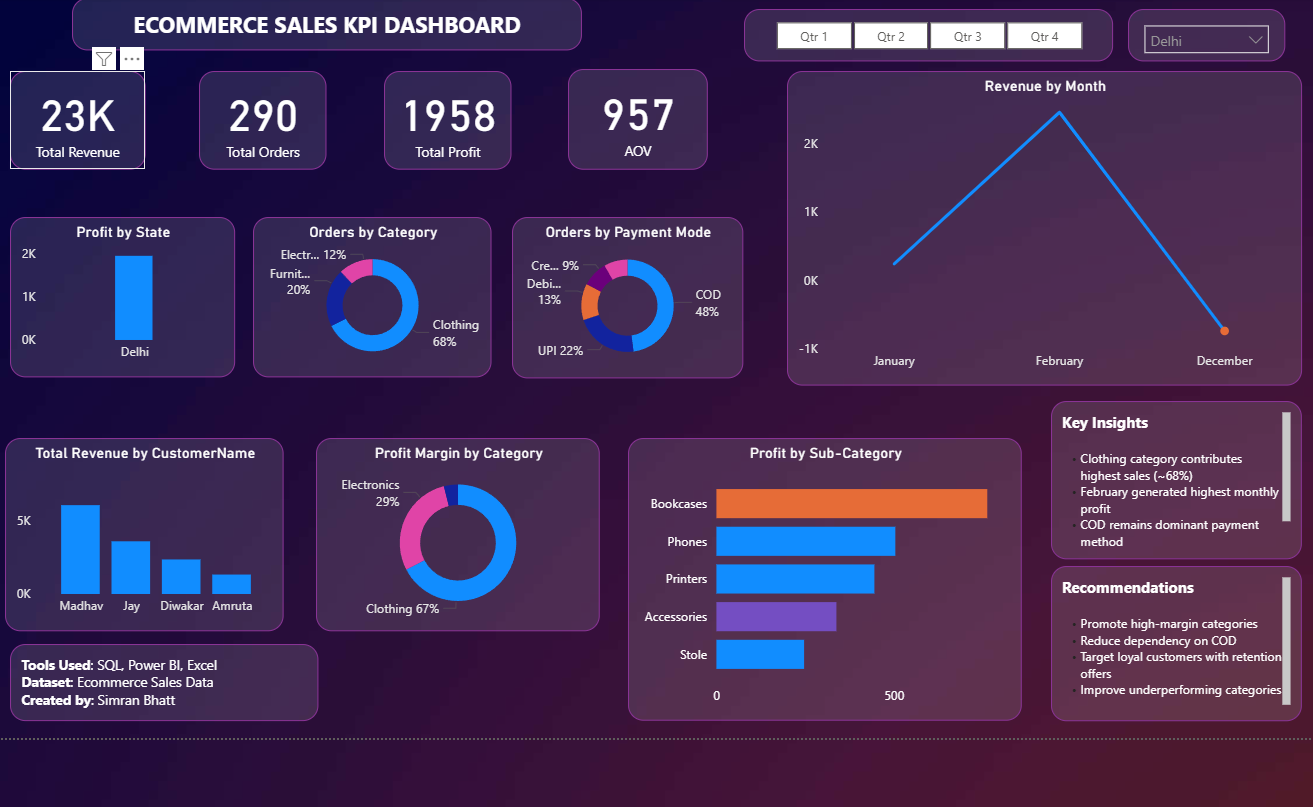

Layout of this report page (visuals, bound fields, positions):
{"tool":"powerbi","page":{"name":"Page 1","canvas":[1280,720],"ordinal":0},"visuals":[{"type":"textbox","box":[69.9,0,496.1,51],"z":0},{"type":"lineChart","title":"Revenue by Month","fields":{"Category":["Orders (1).Order Date.Variation.Date Hierarchy.Month"],"Y":["Sum(Details (1).Profit)"]},"box":[765.5,71,500.9,306.4],"z":1000},{"type":"barChart","title":"Profit by Sub-Category","fields":{"Category":["Details (1).Sub-Category"],"Y":["Sum(Details (1).Profit)"]},"box":[610.8,428,383.2,275.3],"z":2000},{"type":"donutChart","title":"Orders by Category","fields":{"Category":["Details (1).Category"],"Y":["Sum(Details (1).Quantity)"]},"box":[246.1,213,232.5,155.6],"z":3000},{"type":"donutChart","title":"Orders by Payment Mode","fields":{"Y":["Sum(Details (1).Quantity)"],"Category":["Details (1).PaymentMode"]},"box":[498,213,224.7,156.6],"z":4000},{"type":"card","fields":{"Values":["Sum(Details (1).Amount)"]},"box":[9.9,70.7,131.6,95.8],"z":5000},{"type":"card","fields":{"Values":["Sum(Details (1).Quantity)"]},"box":[193.4,70.7,124.5,95.8],"z":6000},{"type":"card","fields":{"Values":["Sum(Details (1).Profit)"]},"box":[373.4,70.7,124.5,95.8],"z":7000},{"type":"card","fields":{"Values":["Details .AOV"]},"box":[552.5,69,136.1,97.6],"z":8000},{"type":"columnChart","title":"Profit by State","fields":{"Category":["Orders (1).State"],"Y":["Sum(Details (1).Profit)"]},"box":[9.7,213,218.8,155.6],"z":9000},{"type":"columnChart","fields":{"Category":["Orders (1).CustomerName"],"Y":["Sum(Details (1).Amount)"]},"box":[4.9,428,271.4,187.7],"z":10000},{"type":"slicer","fields":{"Values":["Orders (1).Order Date.Variation.Date Hierarchy.Quarter"]},"box":[723.6,10.7,358.9,50.6],"z":11000},{"type":"slicer","fields":{"Values":["Orders (1).State"]},"box":[1097.1,10.7,152.7,50.6],"z":12000},{"type":"donutChart","fields":{"Y":["Sum(Details (1).Profit Margin)"],"Category":["Details (1).Category"]},"box":[307.4,428,276.2,187.7],"z":13000},{"type":"textbox","box":[1022.2,392,244.1,153.7],"z":14000},{"type":"textbox","box":[1022.2,552.5,244.1,150.8],"z":15000},{"type":"textbox","box":[9.7,628.3,299.6,74.9],"z":16000}]}

Visuals, with their boxes on the page's 1280x720 design canvas (x1, y1, x2, y2). These are canvas units, not pixel positions in the 1313x807 screenshot, which may show the page scaled, cropped or inside an application window:
textbox: 70,0,566,51
"Revenue by Month" lineChart: 766,71,1266,377
"Profit by Sub-Category" barChart: 611,428,994,703
"Orders by Category" donutChart: 246,213,479,369
"Orders by Payment Mode" donutChart: 498,213,723,370
card - Sum(Details (1).Amount): 10,71,142,166
card - Sum(Details (1).Quantity): 193,71,318,166
card - Sum(Details (1).Profit): 373,71,498,166
card - Details .AOV: 552,69,689,167
"Profit by State" columnChart: 10,213,228,369
columnChart - Orders (1).CustomerName x Sum(Details (1).Amount): 5,428,276,616
slicer - Orders (1).Order Date.Variation.Date Hierarchy.Quarter: 724,11,1082,61
slicer - Orders (1).State: 1097,11,1250,61
donutChart - Sum(Details (1).Profit Margin) x Details (1).Category: 307,428,584,616
textbox: 1022,392,1266,546
textbox: 1022,552,1266,703
textbox: 10,628,309,703
